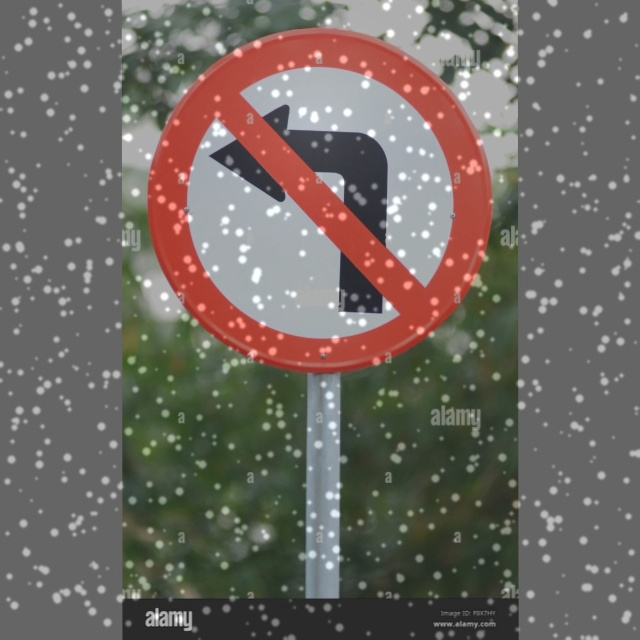Left_Turn_Prohibited: (145, 29, 494, 370)
